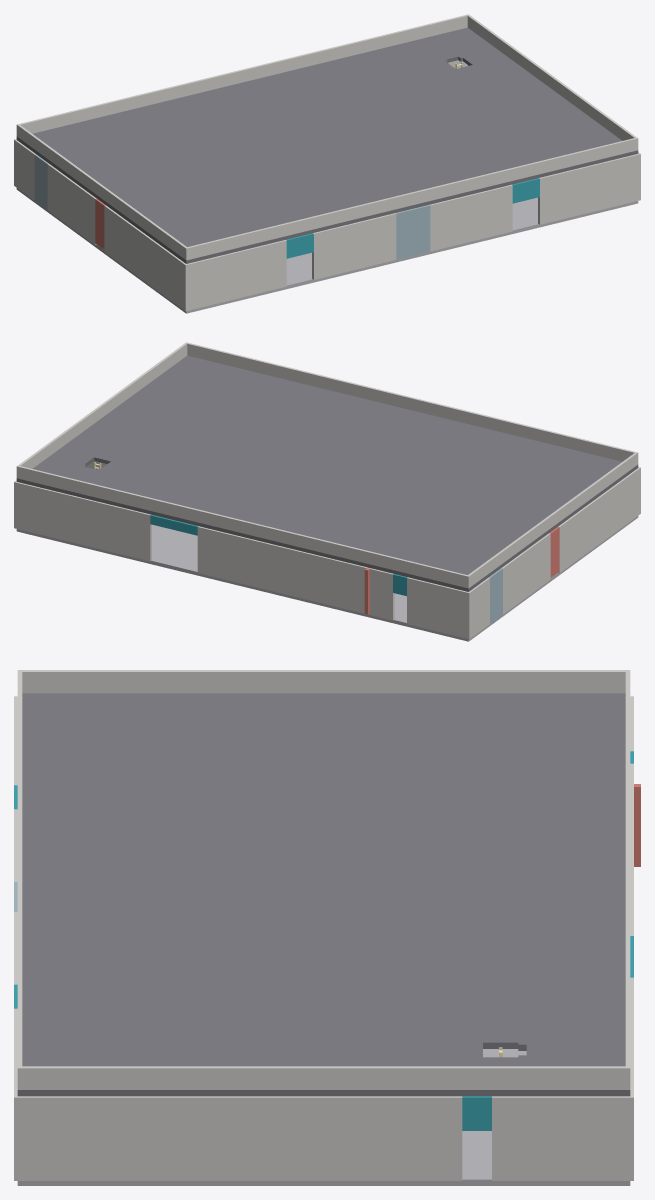
File: bank_tower_a03.glb
3 renders of one model, top to bottom at view 1: azimuth 30°, elevation 25°; view 2: azimuth 150°, elevation 25°; view 3: azimuth 270°, elevation 25°, orthographic. The views are drawn at different scales.
Parts seen in each view (by area): view 1: slab_1_t2_3, slab_1_t1_3, slab_1_t2_2, slab_1_t2_5, slab_1_t2_6, slab_1_t3_1, slab_1_t3_6, slab_1_t4_3, slab_1_t4_4, slab_1_t4_6, slab_1_t1_5, slab_1_t1_6 (+85 smaller); view 2: slab_1_t3_3, slab_1_t1_3, slab_1_t1_4, slab_1_t1_6, slab_1_t2_1, slab_1_t2_6, slab_1_t3_2, slab_1_t3_5, slab_1_t3_6, slab_1_t4_3, slab_1_t1_1, slab_1_t1_5 (+84 smaller); view 3: slab_1_t1_3, slab_1_t1_5, slab_1_t2_3, slab_1_t2_5, slab_1_t4_3, slab_1_t4_5, slab_1_t1_4, slab_1_t2_4, slab_1_t4_4, slab_1_t3_3, slab_1_t3_4, slab_1_t3_5 (+63 smaller).
Boxes of the visible parts, x1,y1,x2,y2 form: slab_1_t2_3: (271, 143, 355, 177); slab_1_t1_3: (299, 164, 383, 198); slab_1_t2_2: (215, 157, 298, 191); slab_1_t2_5: (384, 115, 468, 149); slab_1_t2_6: (441, 102, 524, 136); slab_1_t3_1: (130, 150, 213, 184); slab_1_t3_6: (412, 81, 496, 115); slab_1_t4_3: (215, 102, 298, 136); slab_1_t4_4: (271, 88, 355, 122); slab_1_t4_6: (384, 60, 468, 94); slab_1_t1_5: (412, 136, 496, 170); slab_1_t1_6: (469, 122, 552, 156); slab_1_t3_3: (299, 471, 383, 505); slab_1_t1_3: (356, 430, 439, 464); slab_1_t1_4: (299, 416, 383, 450); slab_1_t1_6: (186, 388, 270, 422); slab_1_t2_1: (441, 478, 524, 512); slab_1_t2_6: (158, 409, 242, 443); slab_1_t3_2: (356, 485, 439, 519); slab_1_t3_5: (186, 443, 270, 477); slab_1_t3_6: (130, 430, 213, 464); slab_1_t4_3: (271, 492, 355, 526); slab_1_t1_1: (469, 457, 552, 491); slab_1_t1_5: (243, 402, 326, 436); slab_1_t1_3: (119, 840, 221, 890); slab_1_t1_5: (119, 940, 221, 990); slab_1_t2_3: (221, 840, 323, 890); slab_1_t2_5: (221, 940, 323, 990); slab_1_t4_3: (426, 840, 528, 890); slab_1_t4_5: (426, 940, 528, 990); slab_1_t1_4: (119, 890, 221, 940); slab_1_t2_4: (221, 890, 323, 940); slab_1_t4_4: (426, 890, 528, 940); slab_1_t3_3: (324, 840, 425, 890); slab_1_t3_4: (324, 890, 425, 940); slab_1_t3_5: (324, 940, 425, 990).
Size of what is drawn, in the model's own units: 40.3 by 5.5 by 26.6.
